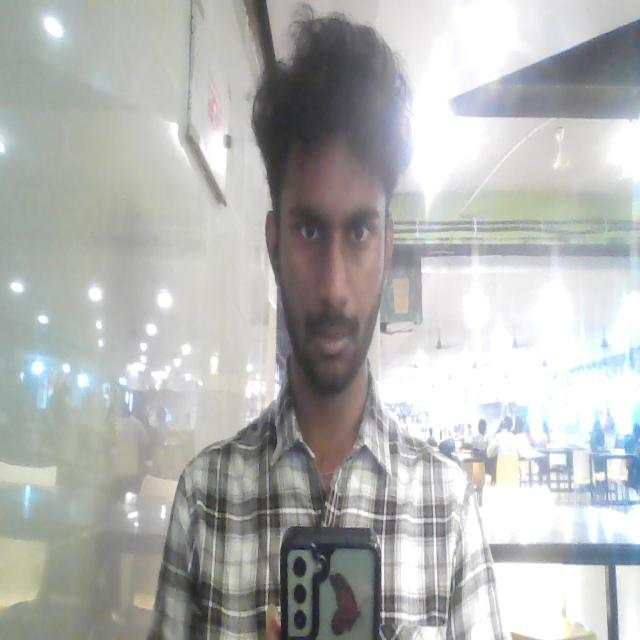phone: (281, 524, 384, 634)
